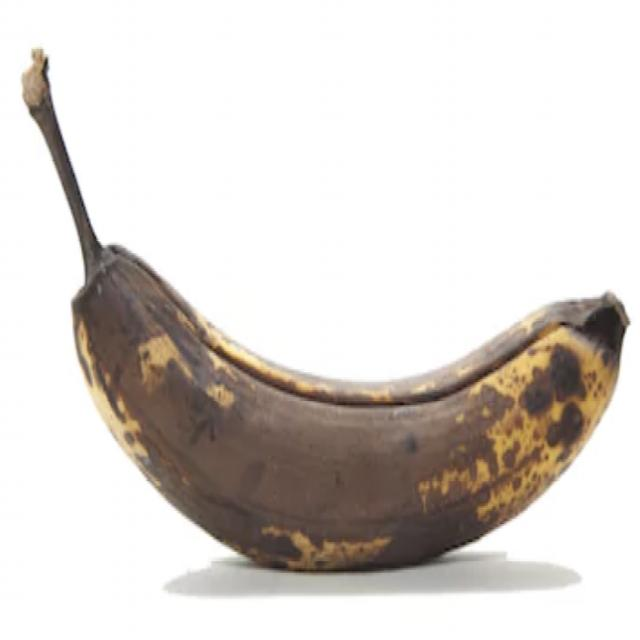rotten-banana: (47, 137, 626, 574)
